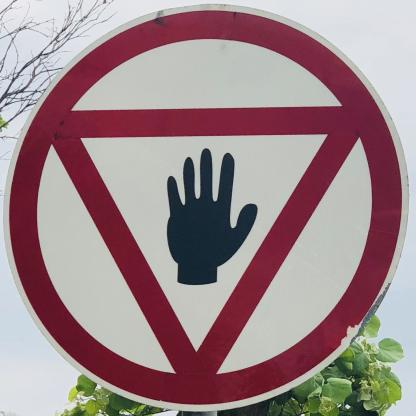Stop: (1, 1, 409, 407)
